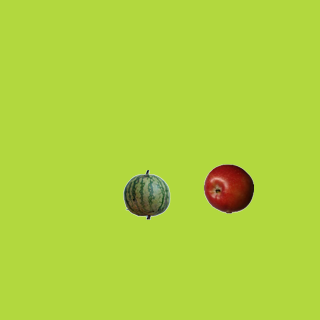Apple Braeburn: (203, 163, 253, 213)
Watermelon: (121, 169, 171, 219)
